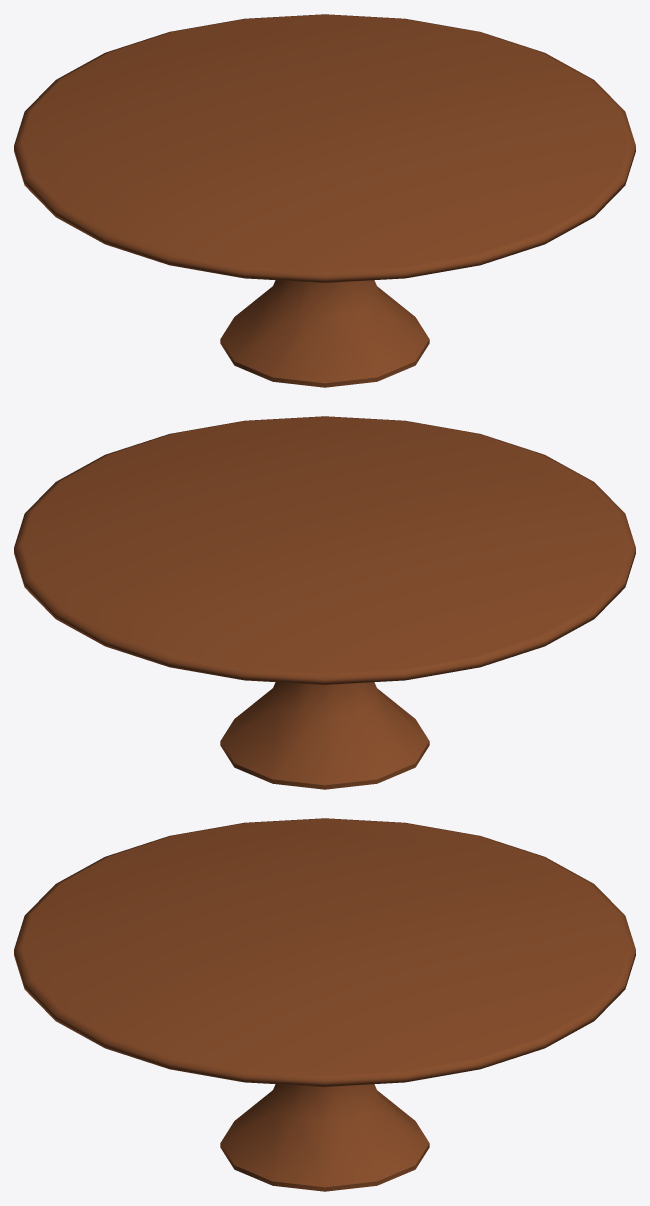
File: Table Large Circular.glb
3 views of the same model, one above another, from view 1: azimuth 30°, elevation 25°; view 2: azimuth 150°, elevation 25°; view 3: azimuth 270°, elevation 25° (orthographic).
Visible parts, largest first — view 1: Table_large_circular; view 2: Table_large_circular; view 3: Table_large_circular.
Part boxes in pixels (box(x1,y1,x2,y2)): Table_large_circular: box(14, 14, 635, 387); Table_large_circular: box(14, 416, 635, 789); Table_large_circular: box(14, 818, 635, 1191).
Bounding box in the file's own units: 3.17 × 1.13 × 3.17.
